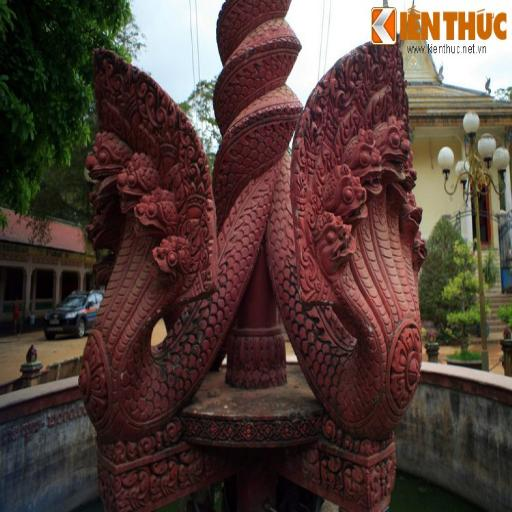ran: (271, 69, 434, 433), (79, 68, 227, 430)
